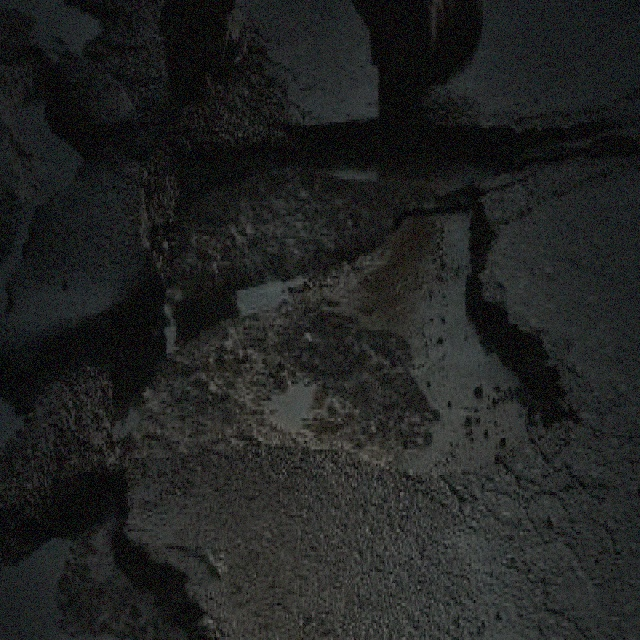pothole: (132, 100, 578, 500), (2, 458, 208, 629), (0, 59, 90, 338)
